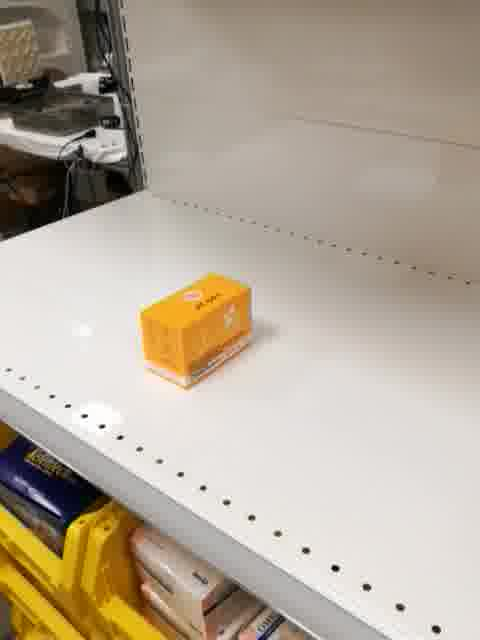jasminetea: (136, 273, 254, 393)
